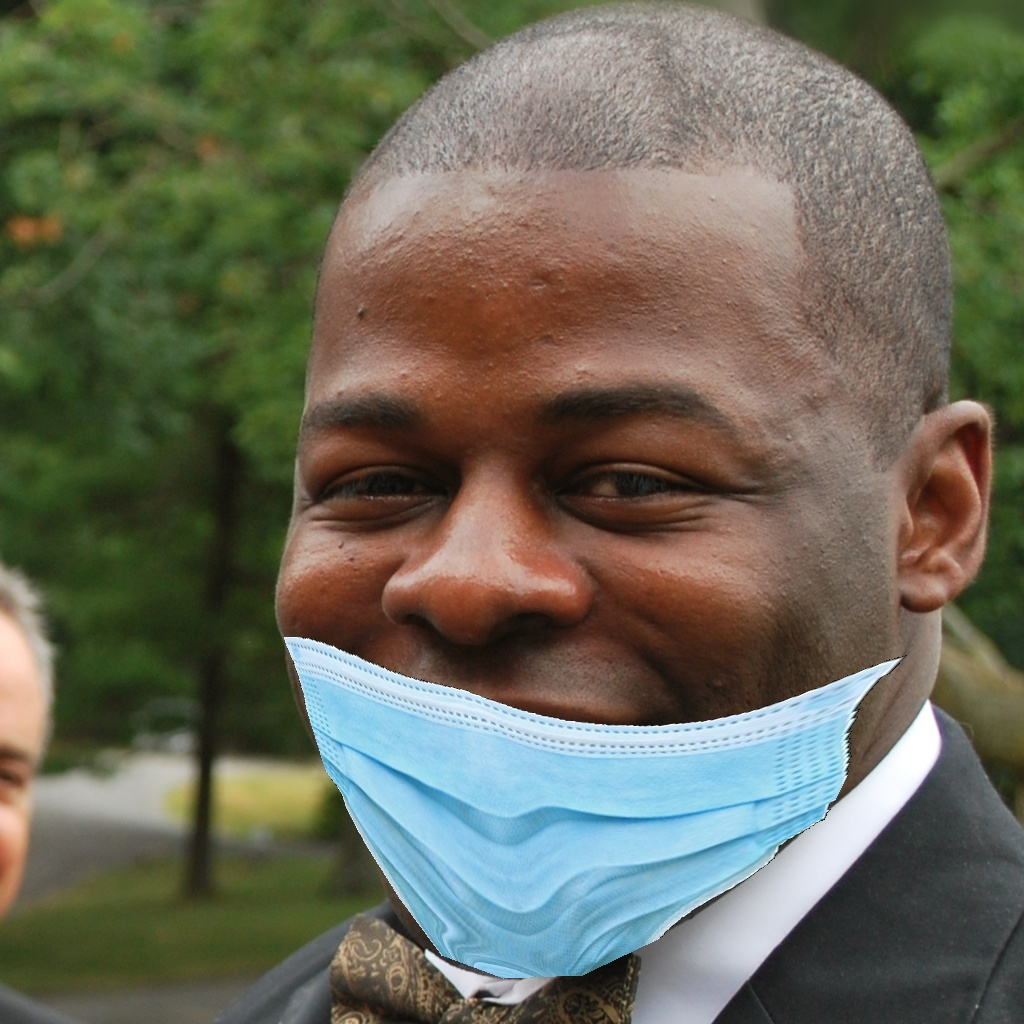Mask_Mouth_Chin: (274, 393, 896, 979)
